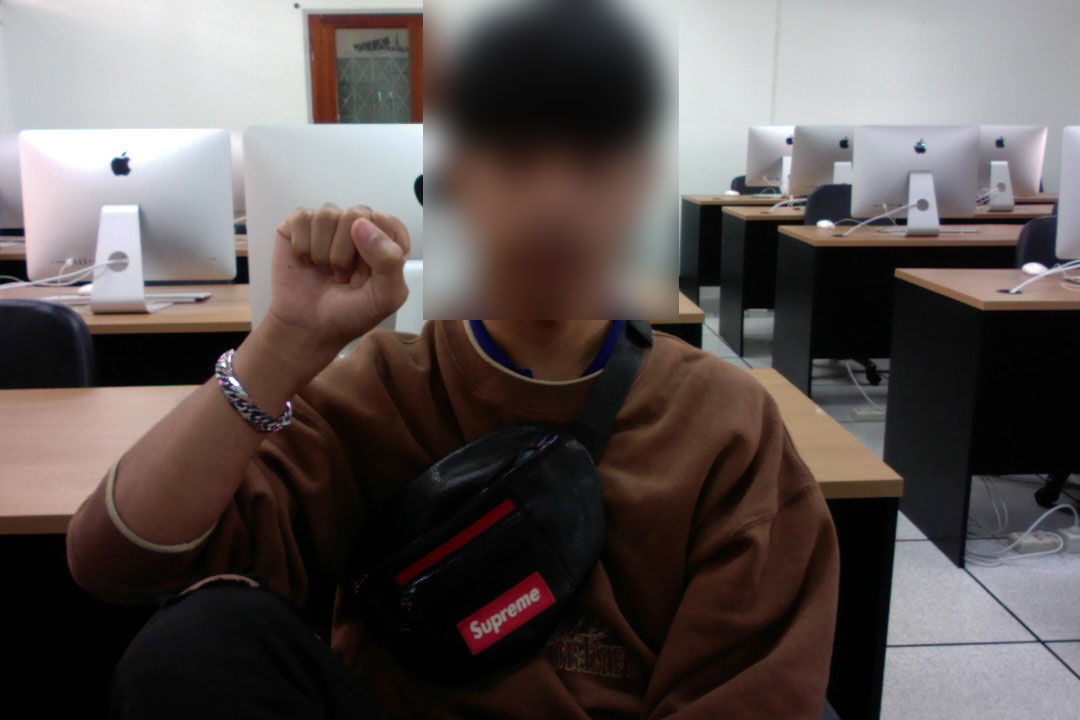sor: (263, 196, 418, 352)
